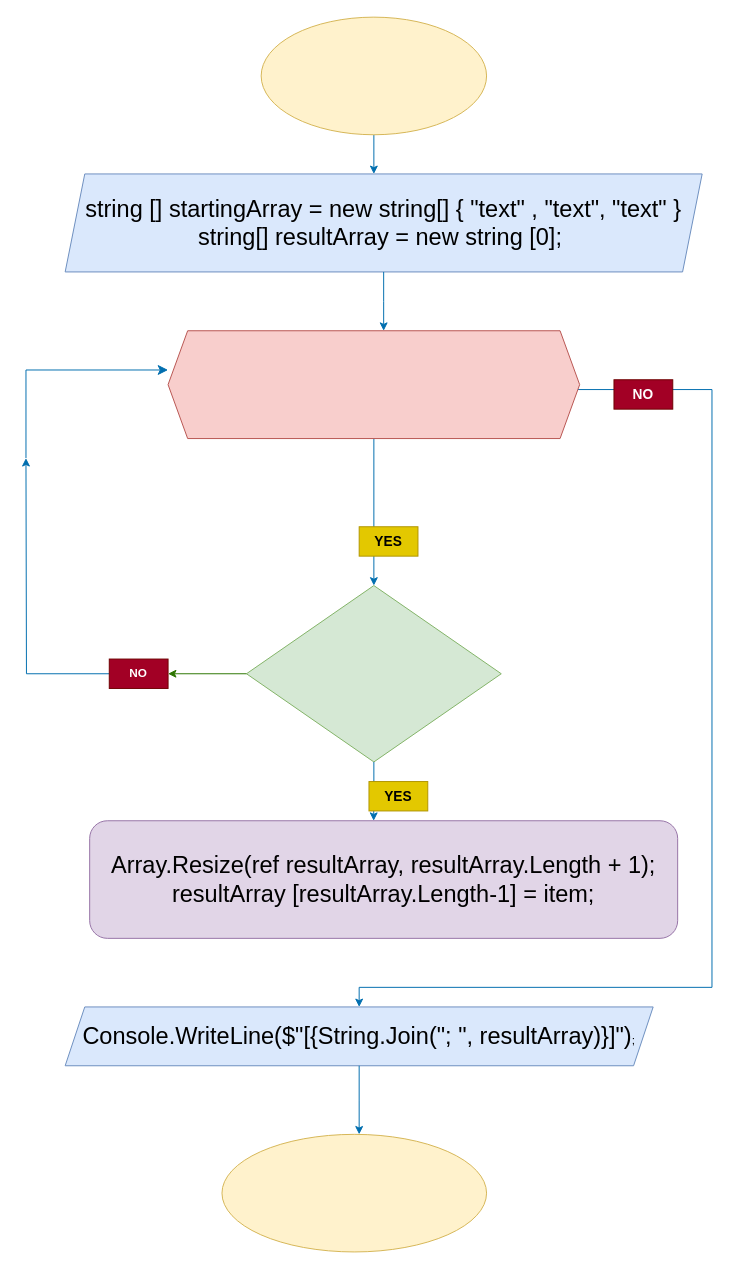
The diagram is 737 pixels wide and 1269 high, and some of its shapes have lost their labels. The centre of each missing label's shape, as x and y in pixels:
"End Main" belongs at point (354, 1192).
"foreach (var item in startingArray)" belongs at point (373, 384).
"if (item.Length <= 3)" belongs at point (373, 673).
"Start void Main" belongs at point (373, 75).
